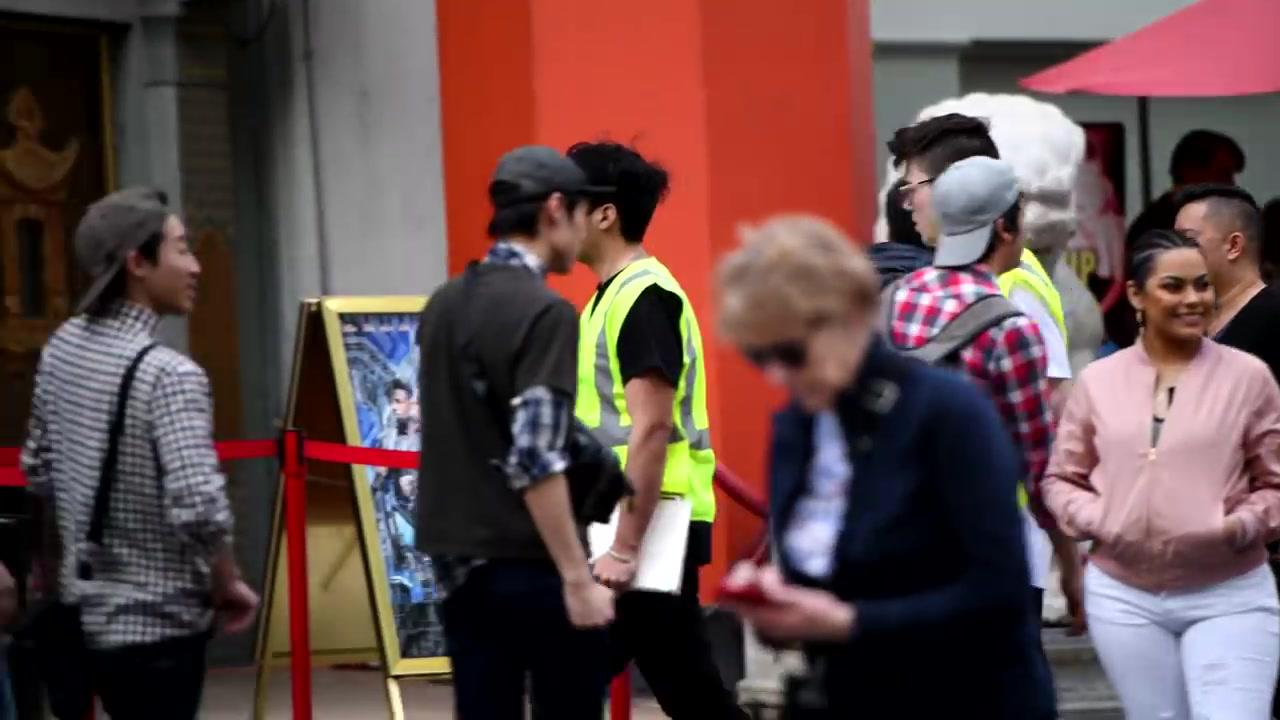Hi-Vis Jacket: (576, 264, 724, 528)
no -hi-vis jacket: (771, 382, 1027, 711), (41, 320, 229, 630), (426, 265, 584, 581), (1081, 349, 1280, 588), (896, 275, 1054, 514)
